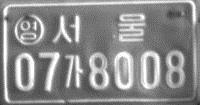0: (13, 51, 36, 91), (112, 50, 135, 90), (139, 50, 162, 90)
7: (37, 50, 61, 92)
8: (164, 48, 186, 89), (88, 51, 110, 91)
가: (63, 53, 84, 89)
서울_D: (50, 11, 147, 46)
영: (14, 14, 45, 46)
